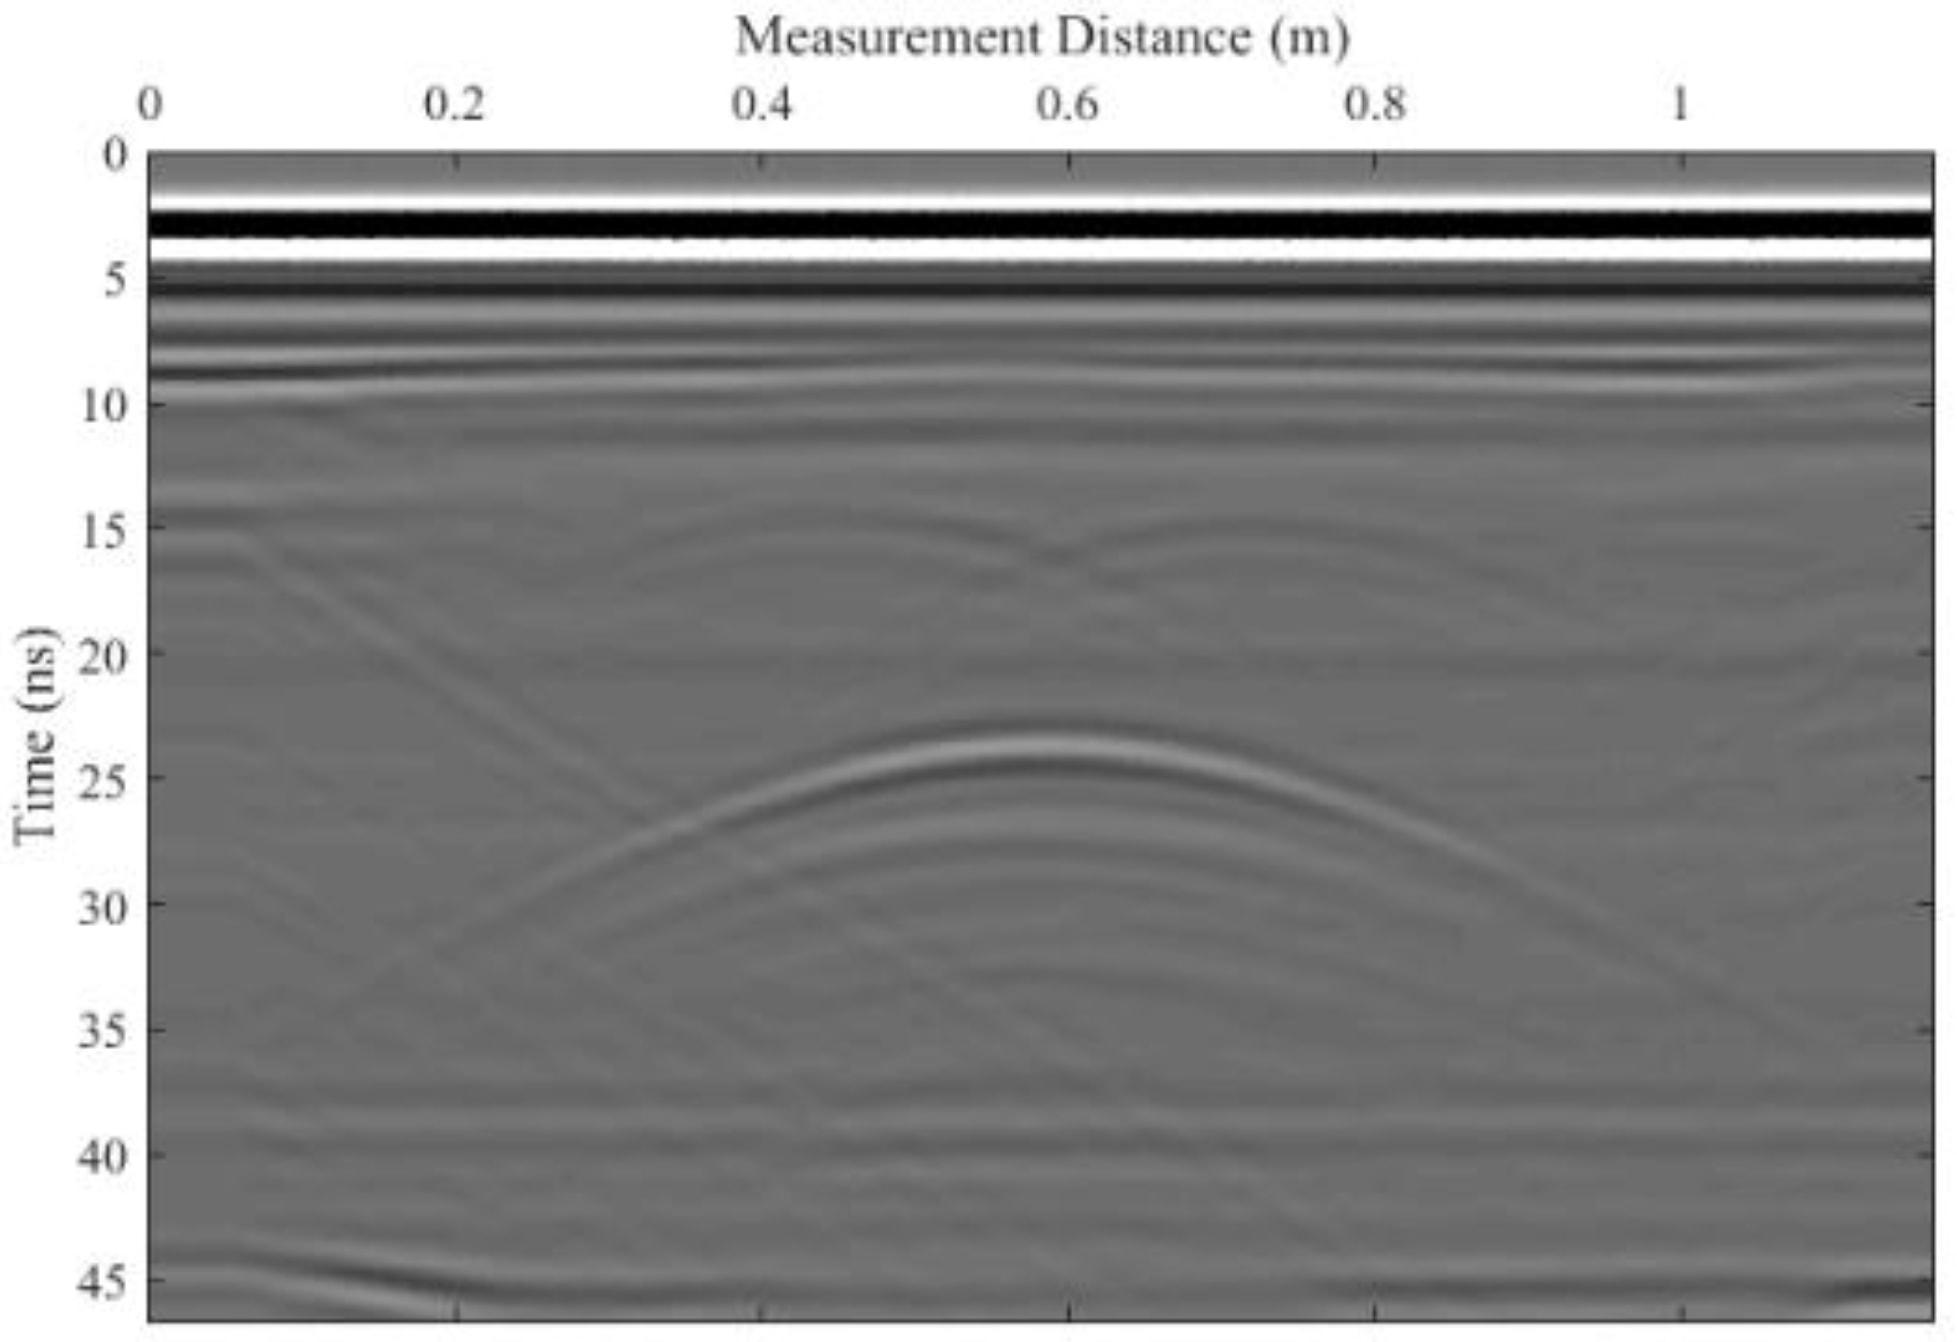hyperbola: (488, 675, 1567, 989)
